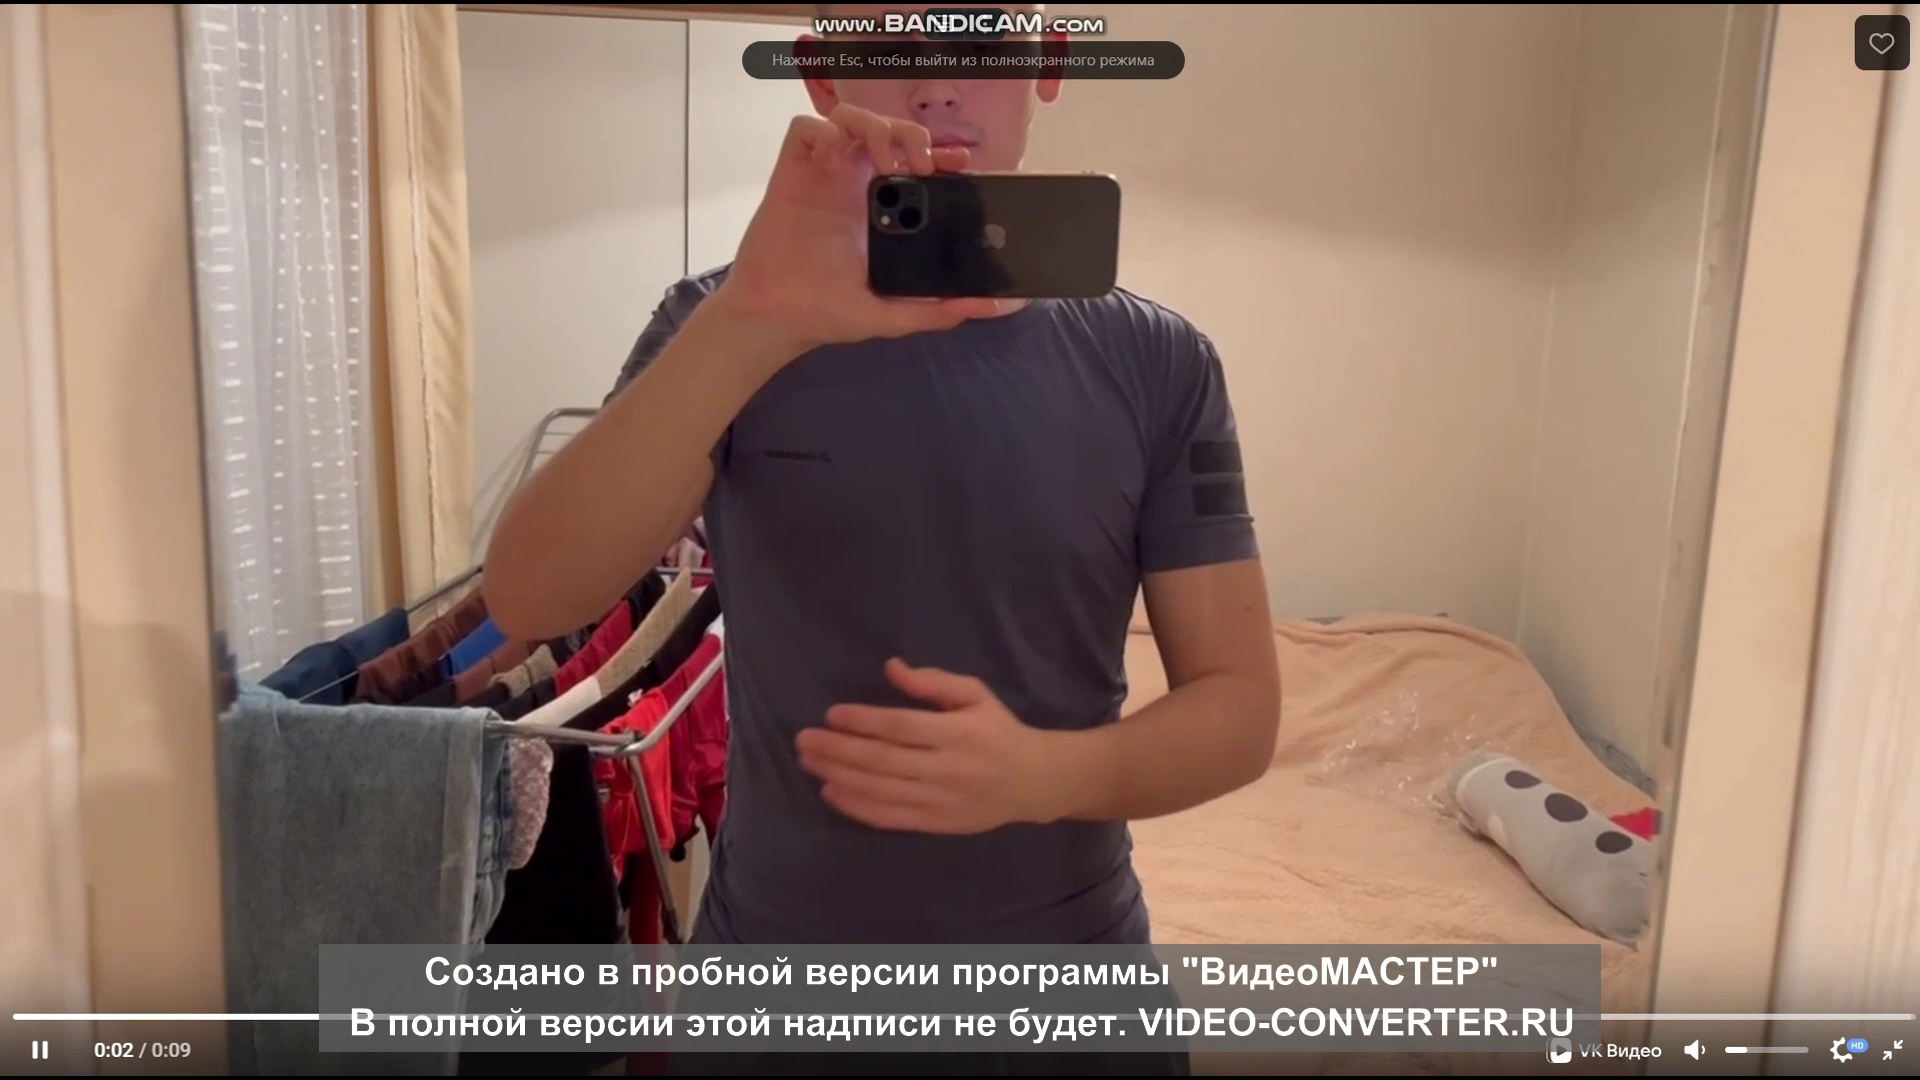Кисть: (791, 655, 1046, 839)
